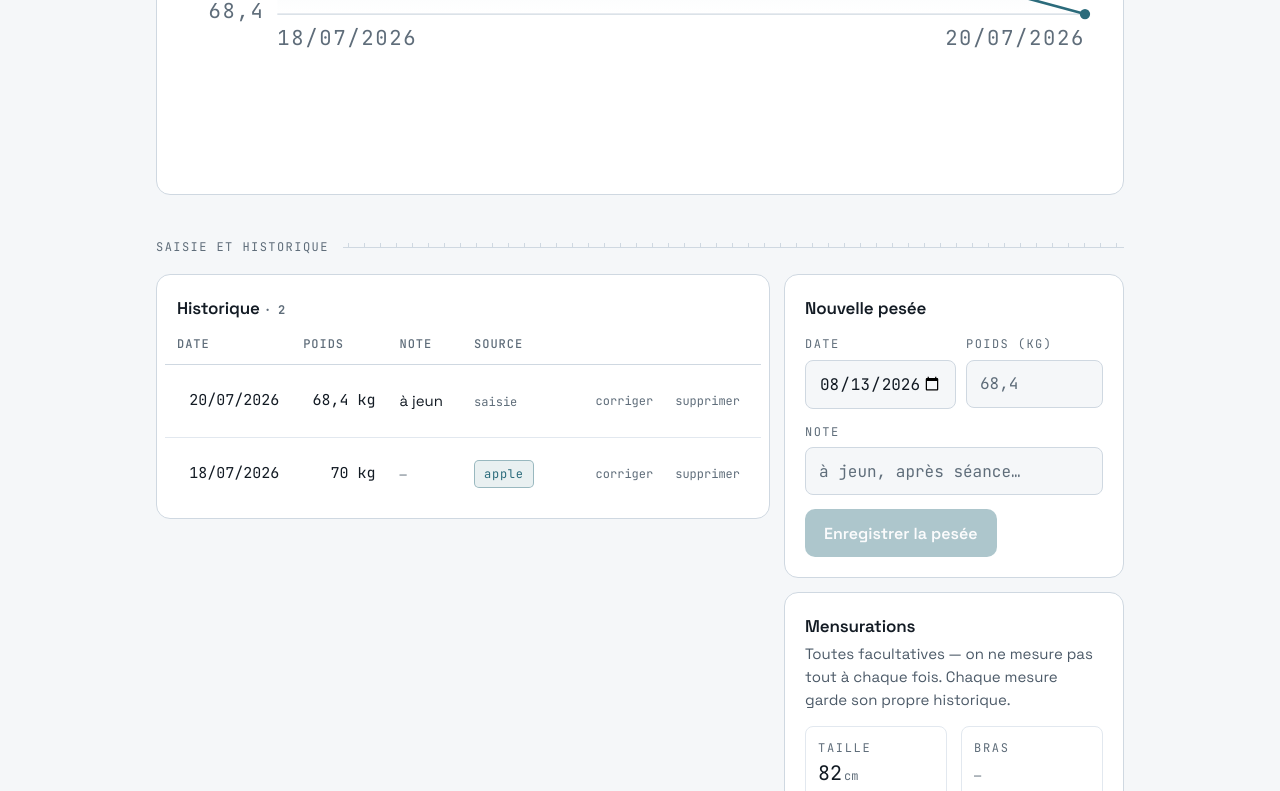
it: écran Corps › bascule en correction avec les valeurs de la ligne visée
(page scrolled)
Click the button with aria-label "Corriger la pesée du 20": (624, 401) [587,379,662,423]
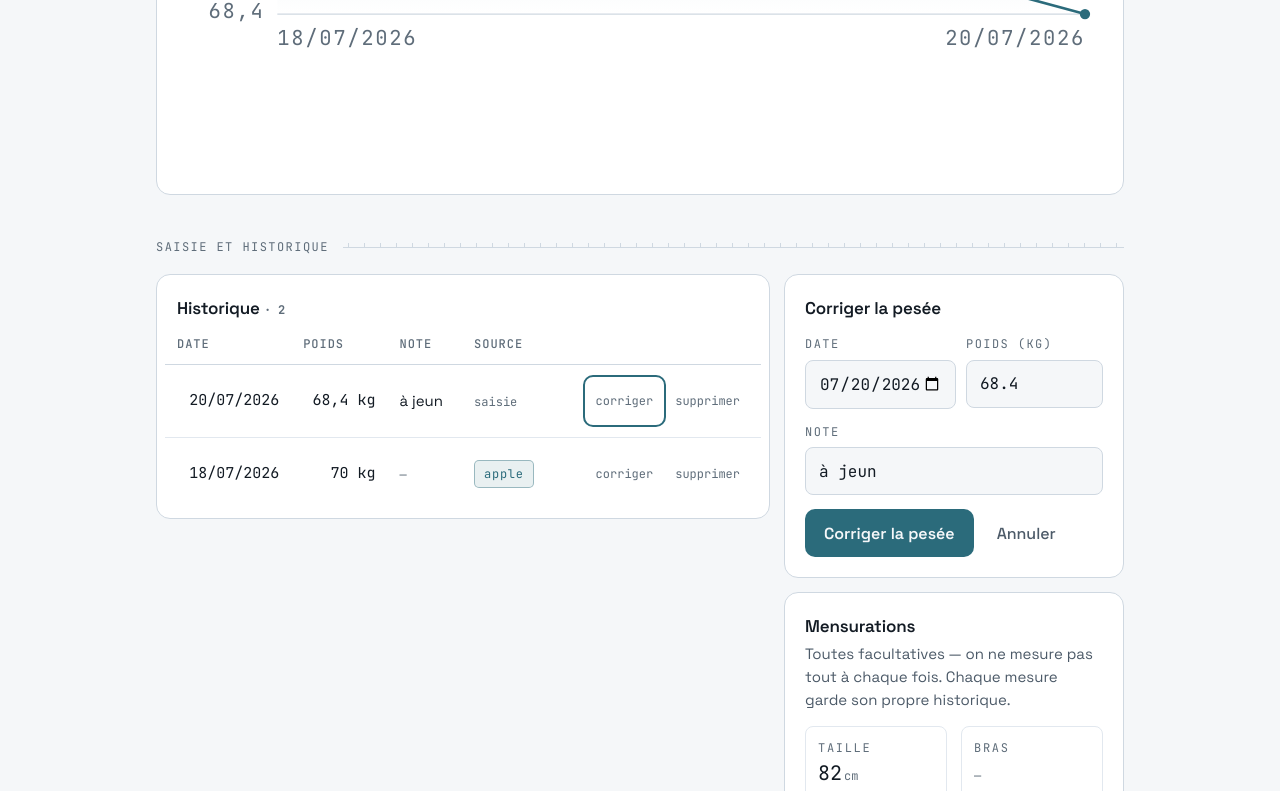
Expected: the heading "Corriger la pesée" is shown, [805,297,941,319]
Expected: the field labelled "Poids (kg)" holds "68.4", [966,360,1103,408]
Expected: the field labelled "Note" holds "à jeun", [805,448,1103,496]
